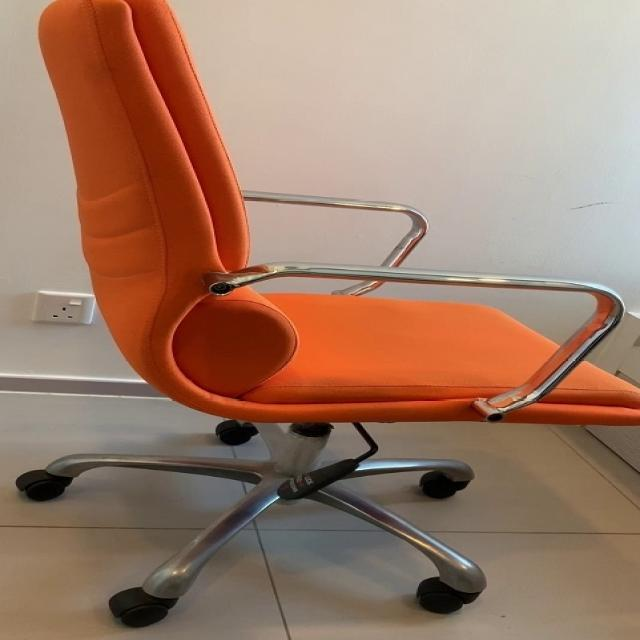chair: (4, 2, 640, 632)
